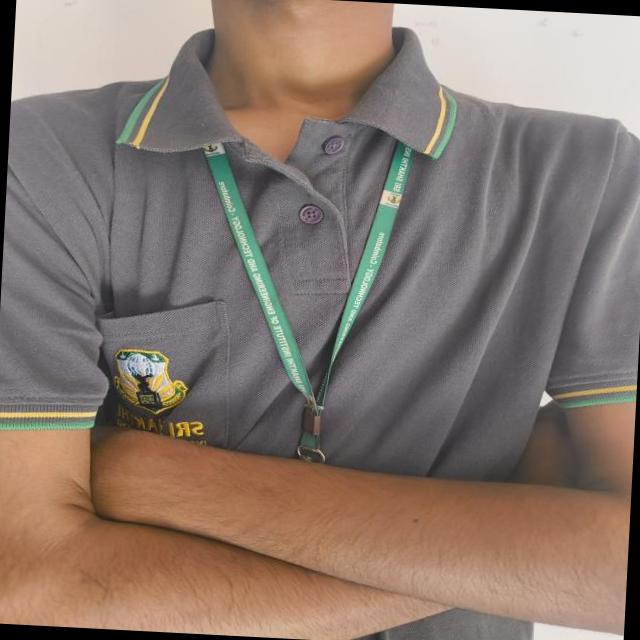id_card: (189, 117, 421, 468)
